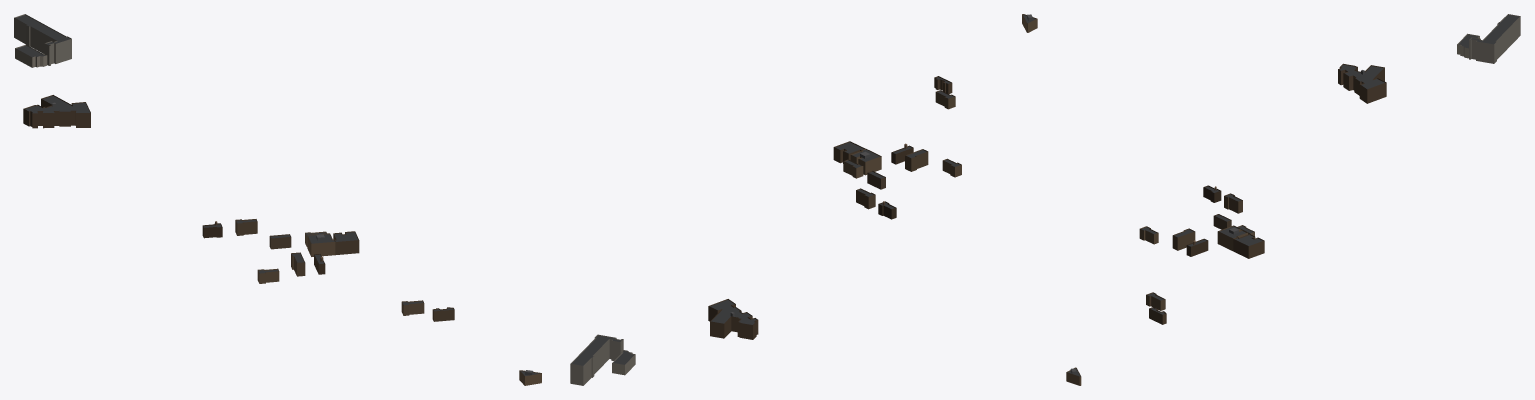
Rendered from manhattan_+04_-03.glb.
The picture shows the model from 3 angles, left to right: view 1: azimuth 30°, elevation 25°; view 2: azimuth 150°, elevation 25°; view 3: azimuth 330°, elevation 25°; orthographic projection. The views are drawn at different scales.
Parts seen in each view (by area): view 1: BLD_lowrise_+04_-03, BLD_midrise_+04_-03; view 2: BLD_lowrise_+04_-03, BLD_midrise_+04_-03; view 3: BLD_lowrise_+04_-03, BLD_midrise_+04_-03.
Part boxes in pixels (x1,y1,x2,y2): BLD_lowrise_+04_-03: (15,44,541,385); BLD_midrise_+04_-03: (14,14,71,65); BLD_lowrise_+04_-03: (612,14,1037,375); BLD_midrise_+04_-03: (570,334,623,385); BLD_lowrise_+04_-03: (1066,33,1479,385); BLD_midrise_+04_-03: (1469,14,1520,63).
Size of the model in its own units: 181 by 27.65 by 1215.
